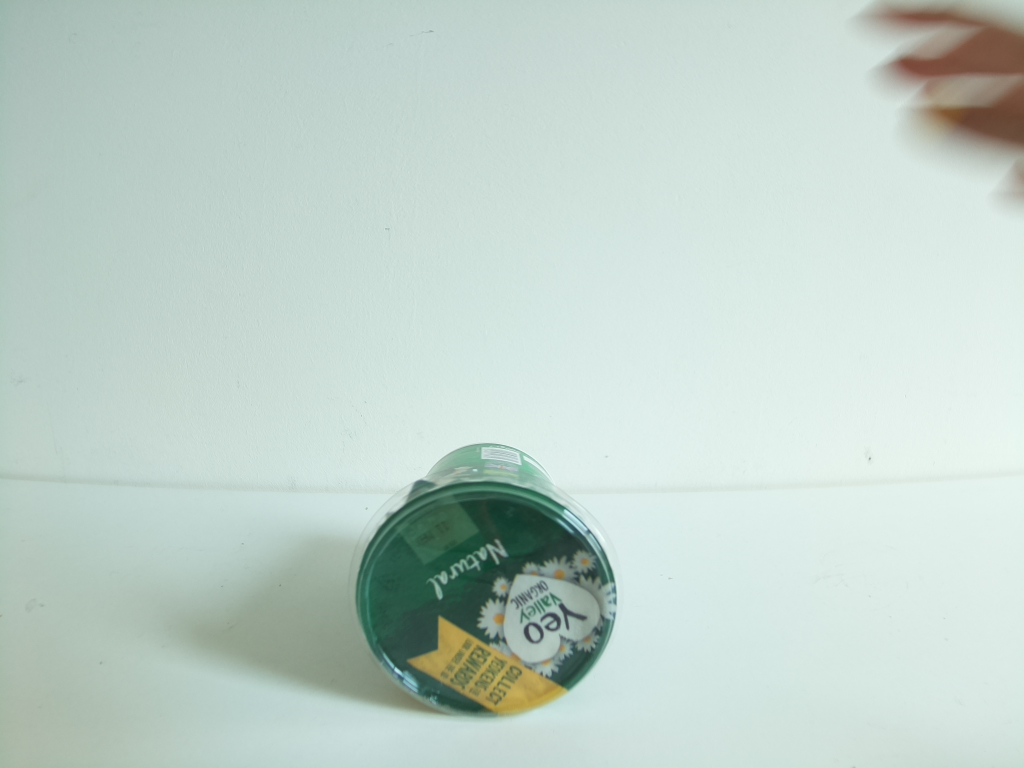yogurt: (349, 438, 626, 726)
